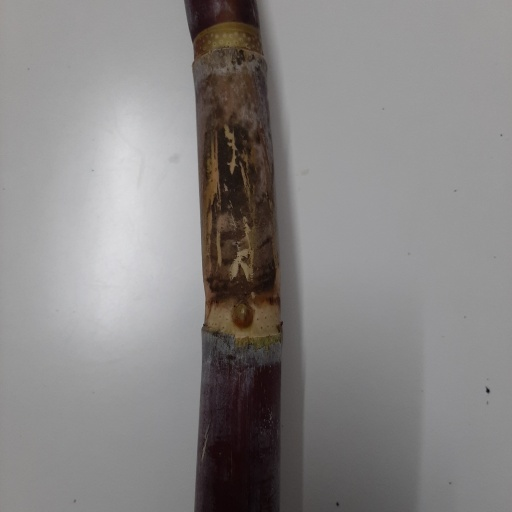Bud: (231, 297, 253, 328)
